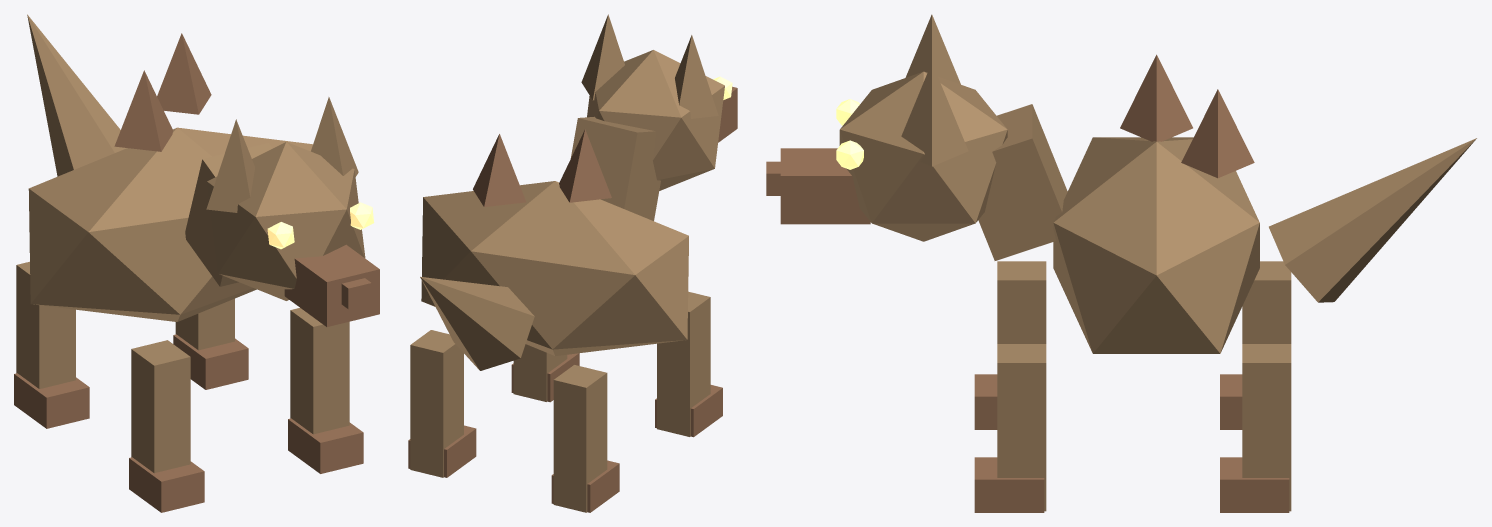
File: wolf.glb
The picture shows the model from 3 angles, left to right: view 1: azimuth 30°, elevation 25°; view 2: azimuth 150°, elevation 25°; view 3: azimuth 270°, elevation 25°; orthographic projection. The views are drawn at different scales.
Parts seen in each view (by area): view 1: body.002, head.002, leg_l_front, leg_r_front, tail, leg_l_back, snout, paw_l_front, paw_r_front, paw_l_back, neck.001, tuft_l (+8 smaller); view 2: body.002, head.002, leg_l_back, leg_r_back, tail, leg_l_front, neck.001, tuft_l, tuft_r, ear_l.001, leg_r_front, ear_r.001 (+5 smaller); view 3: body.002, head.002, tail, neck.001, leg_r_front, leg_r_back, snout, leg_l_front, leg_l_back, ear_r.001, tuft_r, tuft_l (+5 smaller).
Boxes of the visible parts, x1,y1,x2,y2 form: body.002: (28,127,312,321); head.002: (207,142,365,300); leg_l_front: (131,340,190,473); leg_r_front: (290,308,349,434); tail: (27,14,126,176); leg_l_back: (16,261,75,388); snout: (284,244,379,326); paw_l_front: (129,457,204,512); paw_r_front: (288,418,363,473); paw_l_back: (14,373,89,428); neck.001: (185,143,272,286); tuft_l: (114,70,173,151); body.002: (421,181,688,355); head.002: (587,50,724,190); leg_l_back: (553,365,607,512); leg_r_back: (410,330,463,477); tail: (420,276,534,370); leg_l_front: (657,291,710,436); neck.001: (570,116,660,220); tuft_l: (559,129,611,202); tuft_r: (473,134,525,206); ear_l.001: (675,35,718,118); leg_r_front: (513,344,567,401); ear_r.001: (581,14,624,100); body.002: (1053,137,1259,353); head.002: (839,71,1007,241); tail: (1269,138,1476,302); neck.001: (978,104,1067,260); leg_r_front: (997,344,1046,511); leg_r_back: (1242,344,1291,511); snout: (780,148,870,224); leg_l_front: (997,261,1046,343); leg_l_back: (1242,261,1291,343); ear_r.001: (901,63,968,166); tuft_r: (1181,89,1254,178); tuft_l: (1120,54,1192,141).
Size of the model in its own units: 0.8855 by 1.14 by 1.74.
